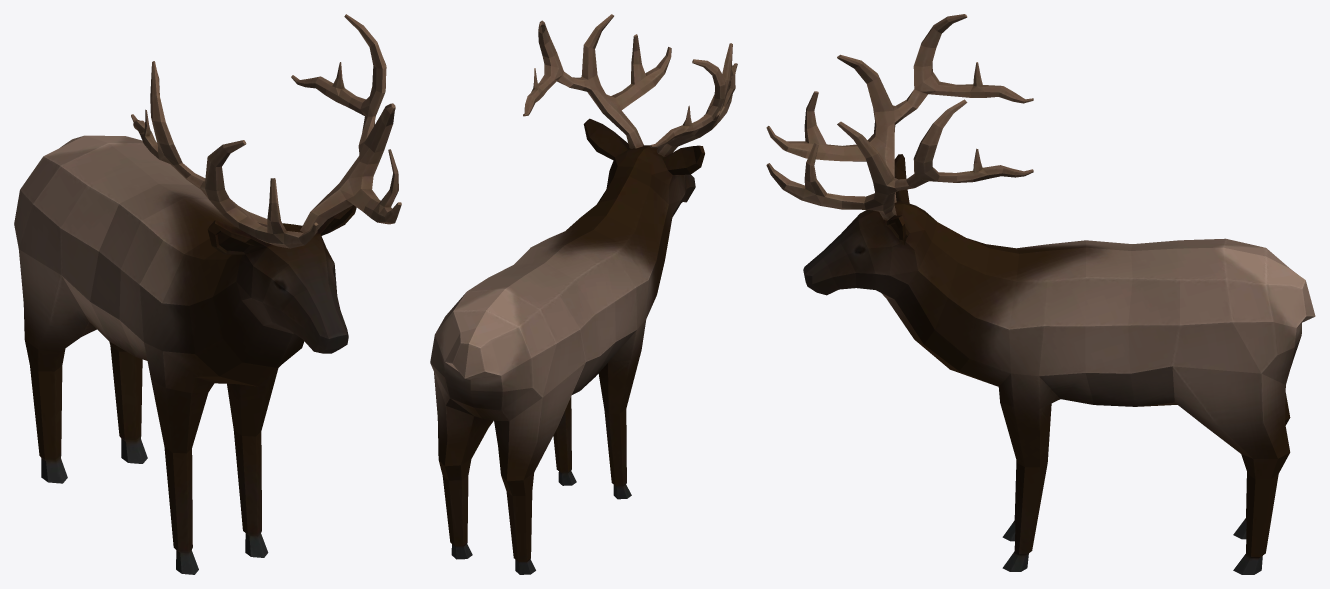
The model's file is elk_polygoogle.glb.
3 views of the same model, side by side, from view 1: azimuth 30°, elevation 25°; view 2: azimuth 150°, elevation 25°; view 3: azimuth 270°, elevation 25° (orthographic). The views are drawn at different scales.
Parts seen in each view (by area): view 1: Elk_mesh; view 2: Elk_mesh; view 3: Elk_mesh.
Part boxes in pixels (x1,y1,x2,y2): Elk_mesh: (14,14,401,574); Elk_mesh: (430,14,737,574); Elk_mesh: (766,14,1315,574).
Size of the model in its own units: 1.07 by 2.39 by 2.4.
1 material, 1 textured.
